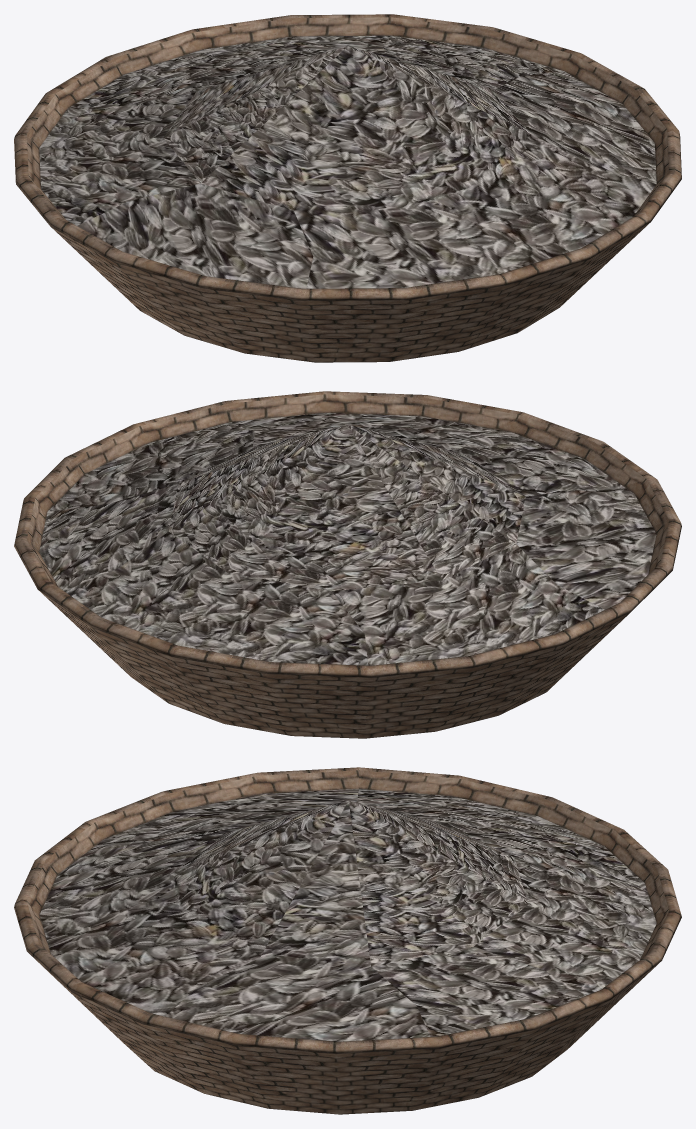
File: Wicker_Basket_02_05.glb
The picture shows the model from 3 angles, top to bottom: view 1: azimuth 30°, elevation 25°; view 2: azimuth 150°, elevation 25°; view 3: azimuth 270°, elevation 25°; orthographic projection.
Visible parts, largest first — view 1: Wicker_Basket_02_05; view 2: Wicker_Basket_02_05; view 3: Wicker_Basket_02_05.
Boxes of the visible parts, x1,y1,x2,y2 form: Wicker_Basket_02_05: [14, 14, 681, 362]; Wicker_Basket_02_05: [14, 391, 681, 738]; Wicker_Basket_02_05: [14, 767, 681, 1114].
Size of the model in its own units: 0.5535 by 0.1971 by 0.5535.
Materials: 2 (2 with a texture image).
